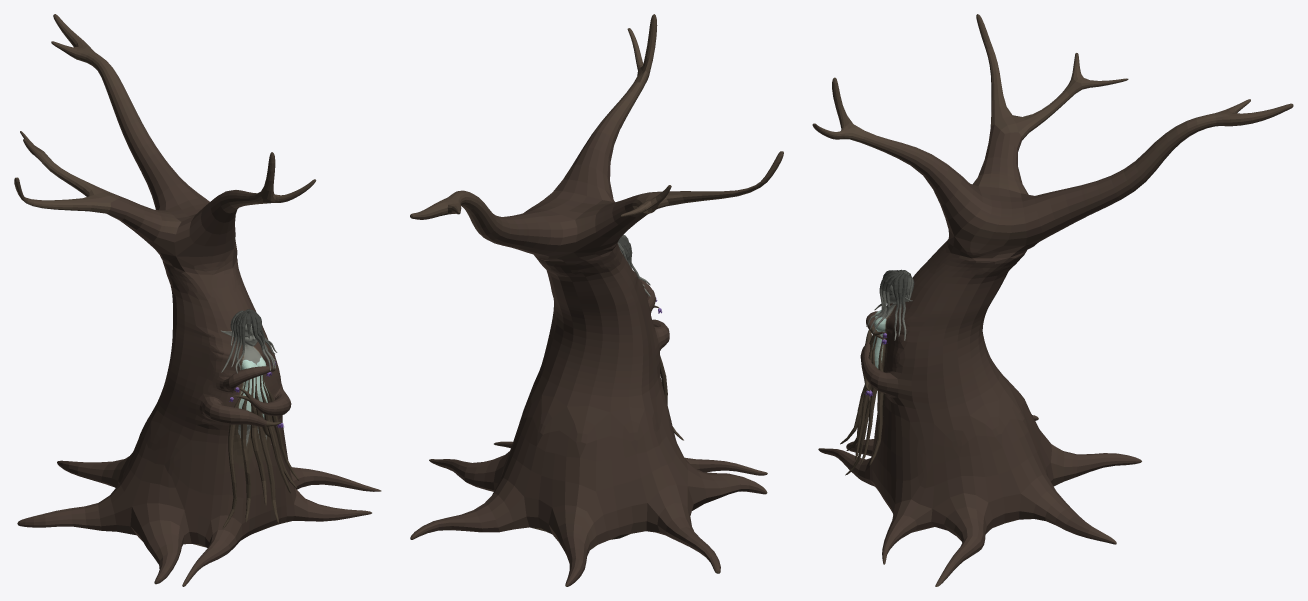
File: Ancient-Three-Sylphie (1).fbx
The picture shows the model from 3 angles, left to right: view 1: azimuth 30°, elevation 25°; view 2: azimuth 150°, elevation 25°; view 3: azimuth 270°, elevation 25°; orthographic projection. The views are drawn at different scales.
Visible parts, largest first — view 1: AncientThreeSylphie; view 2: AncientThreeSylphie; view 3: AncientThreeSylphie.
Boxes of the visible parts, bbox=[...] form: AncientThreeSylphie: bbox=[14, 14, 381, 586]; AncientThreeSylphie: bbox=[410, 14, 783, 586]; AncientThreeSylphie: bbox=[812, 14, 1293, 586].
Bounding box in the file's own units: 6.05 × 6.9 × 7.01.
Materials: 3 (3 with a texture image).
